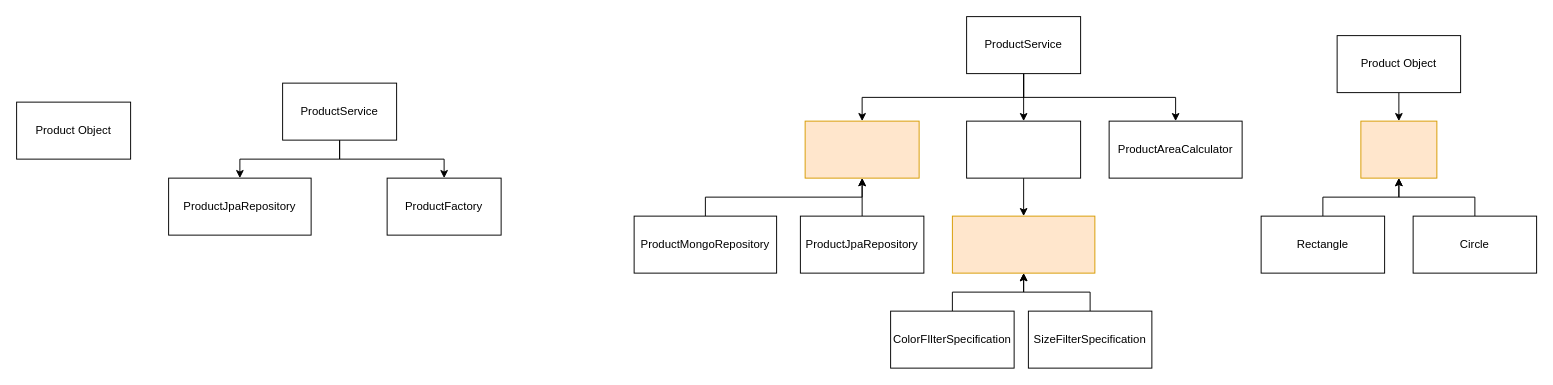
Image size: 1553x385. Some labels were removed from this diagram. Here are the shapes that lost their labels. From the top down, the centre of each, then its label:
point 861,149: IProductRepository
point 1023,149: ProductFilter
point 1398,149: Shape
point 1023,244: IProductFilterSpecification
